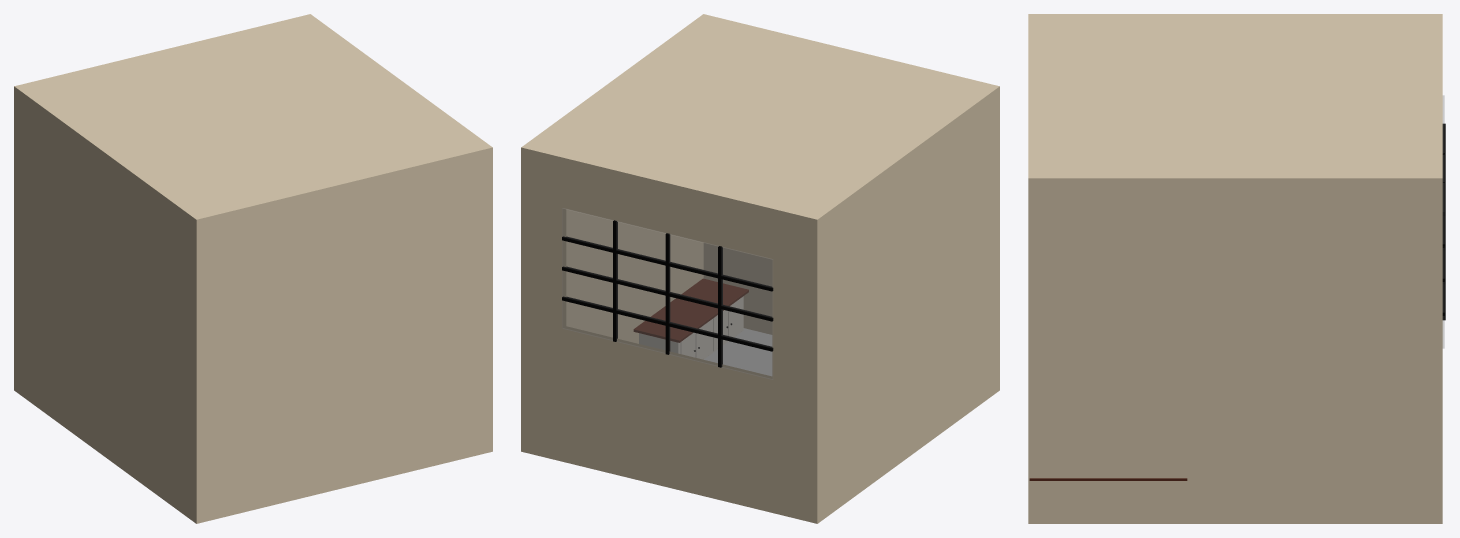
Rendered from Art room static.fbx.
3 views of the same model, side by side, from view 1: azimuth 30°, elevation 25°; view 2: azimuth 150°, elevation 25°; view 3: azimuth 270°, elevation 25° (orthographic). The views are drawn at different scales.
Visible parts, largest first — view 1: Walls; view 2: Walls, Glass_window, polySurface106, cabinet_table2; view 3: Walls, polySurface106.
Boxes of the visible parts, x1=… form: Walls: x1=14, y1=14, x2=492, y2=523; Walls: x1=521, y1=14, x2=999, y2=523; Glass_window: x1=562, y1=208, x2=772, y2=379; polySurface106: x1=562, y1=220, x2=773, y2=367; cabinet_table2: x1=633, y1=278, x2=748, y2=359; Walls: x1=1028, y1=14, x2=1442, y2=523; polySurface106: x1=1442, y1=123, x2=1445, y2=320.
Size of the model in its own units: 2306 by 2262 by 2474.
